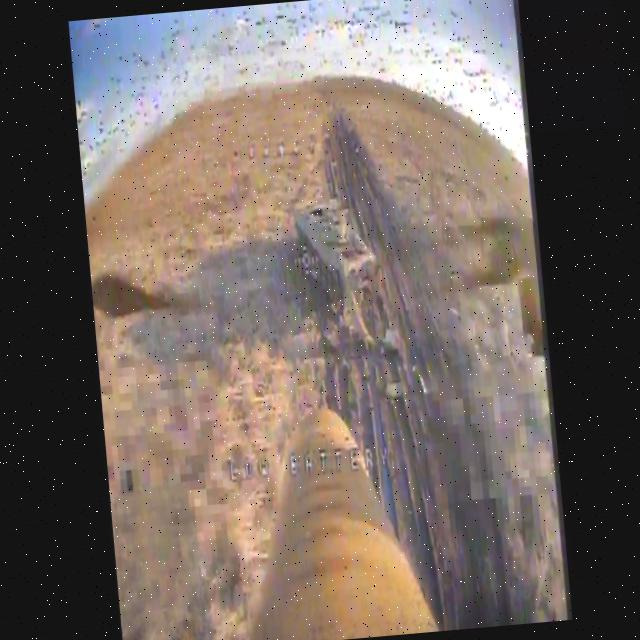AIFV: (292, 195, 379, 309)
